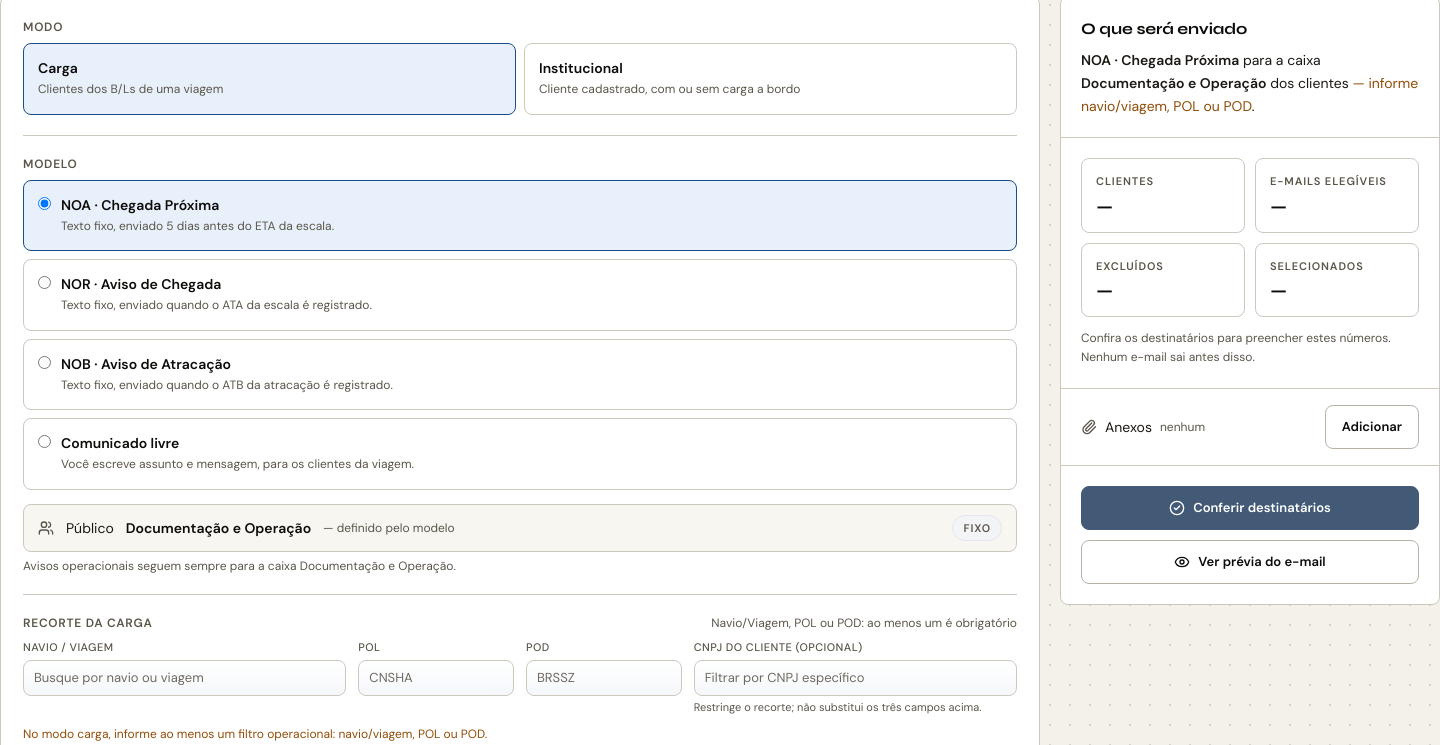
Test: Página ClientesComunicacao (UI e fluxos) › depois de conferir, a composição colapsa numa faixa-resumo e o Editar a devolve
The width and height of the screenshot is (1440, 745).
(page scrolled)
Type "COSCO SHIPPING XING WANG" into the field labelled "Navio / Viagem".
click(185, 678); type("COSCO SHIPPING XING WANG")  # box [23,660,346,696]
(page scrolled)
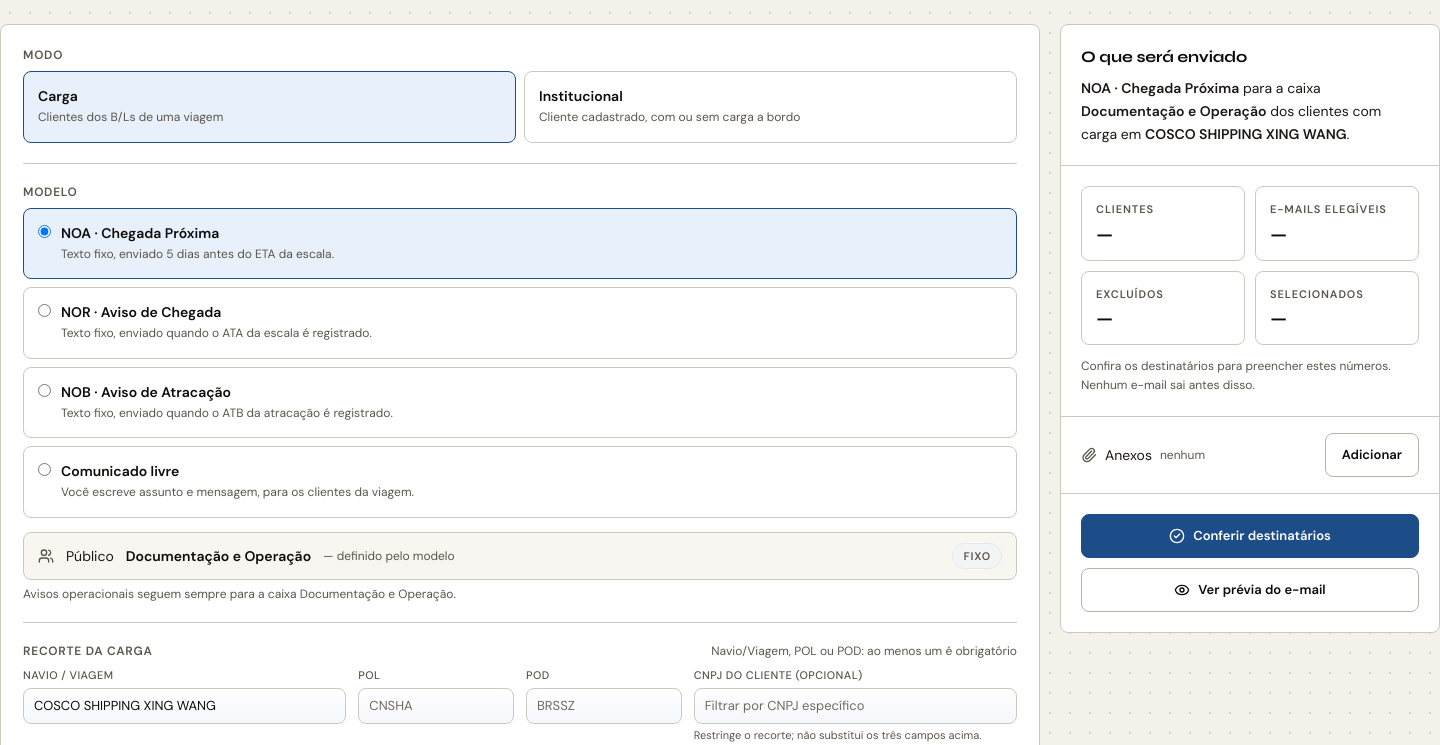
Click the button "Conferir destinatários".
click(1250, 536)  # box [1081,514,1419,558]
(page scrolled)
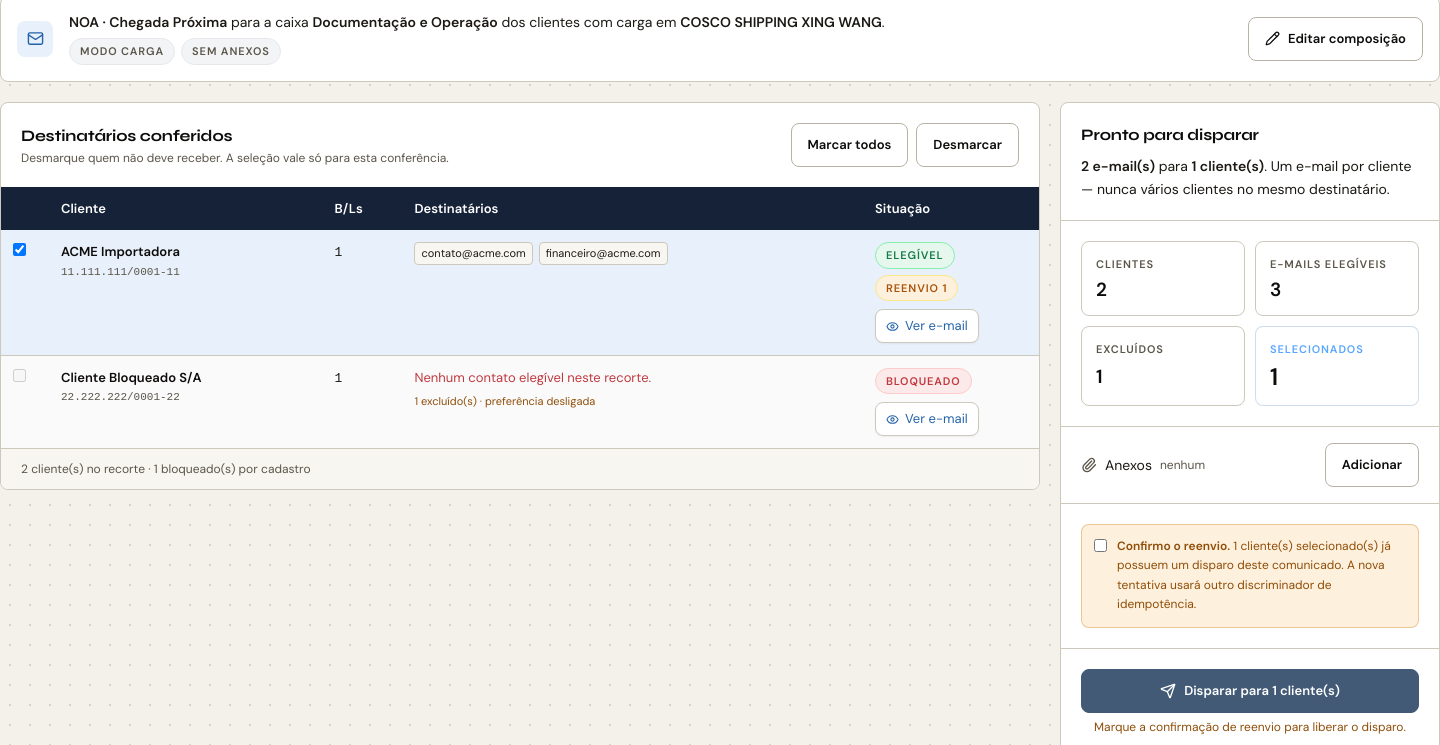
Expected: the text labelled "Navio / Viagem" is gone
Expected: the heading "Destinatários conferidos" is shown, [21,126,232,145]
Expected: the heading "Pronto para disparar" is shown, [1081,125,1259,144]
Click the button "Editar composição".
click(1335, 39)  # box [1248,17,1423,61]
(page scrolled)
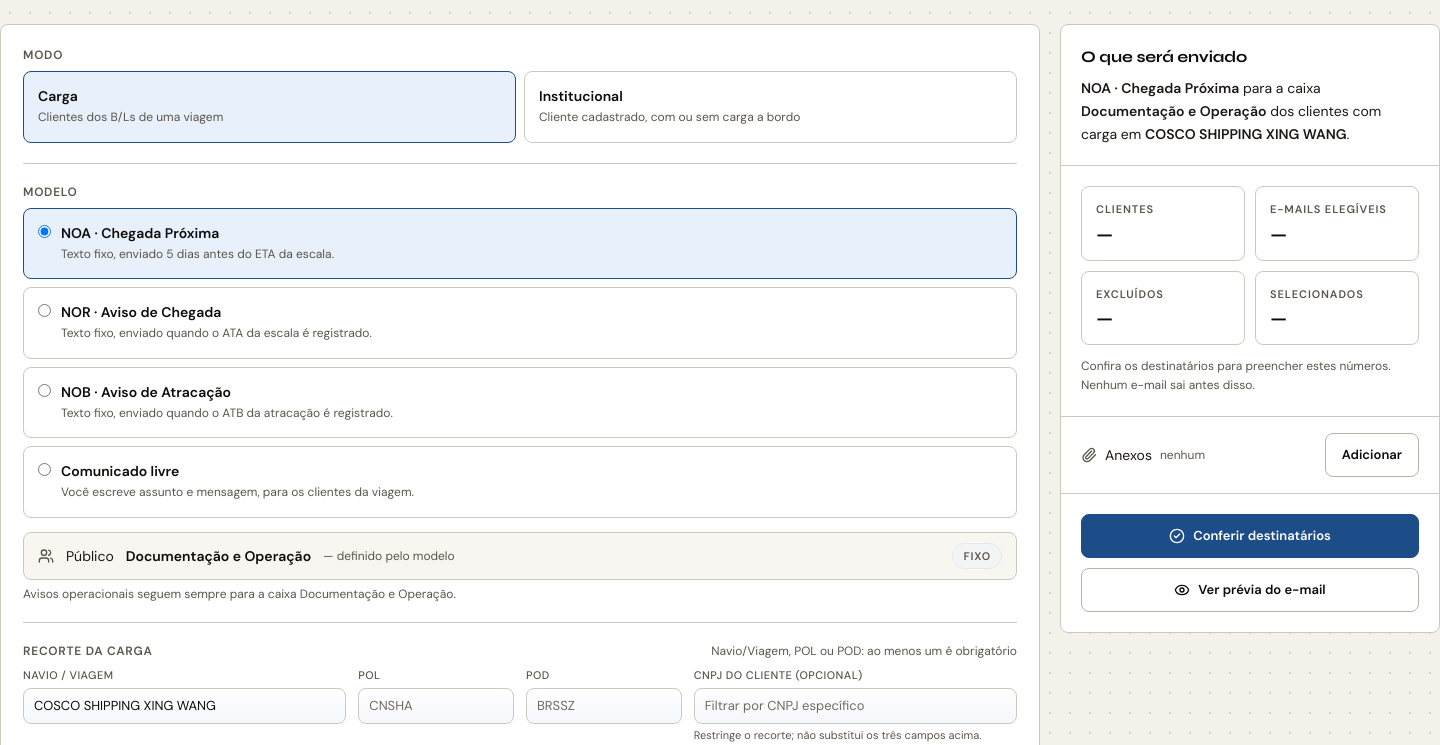
Expected: the field labelled "Navio / Viagem" holds "COSCO SHIPPING XING WANG", [23,688,346,724]
Expected: the heading "Destinatários conferidos" is gone
Expected: the heading "O que será enviado" is shown, [1081,47,1247,66]
